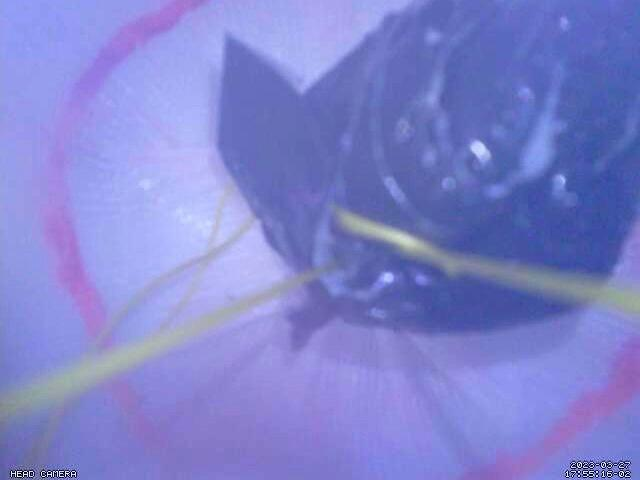head: (36, 0, 640, 480)
